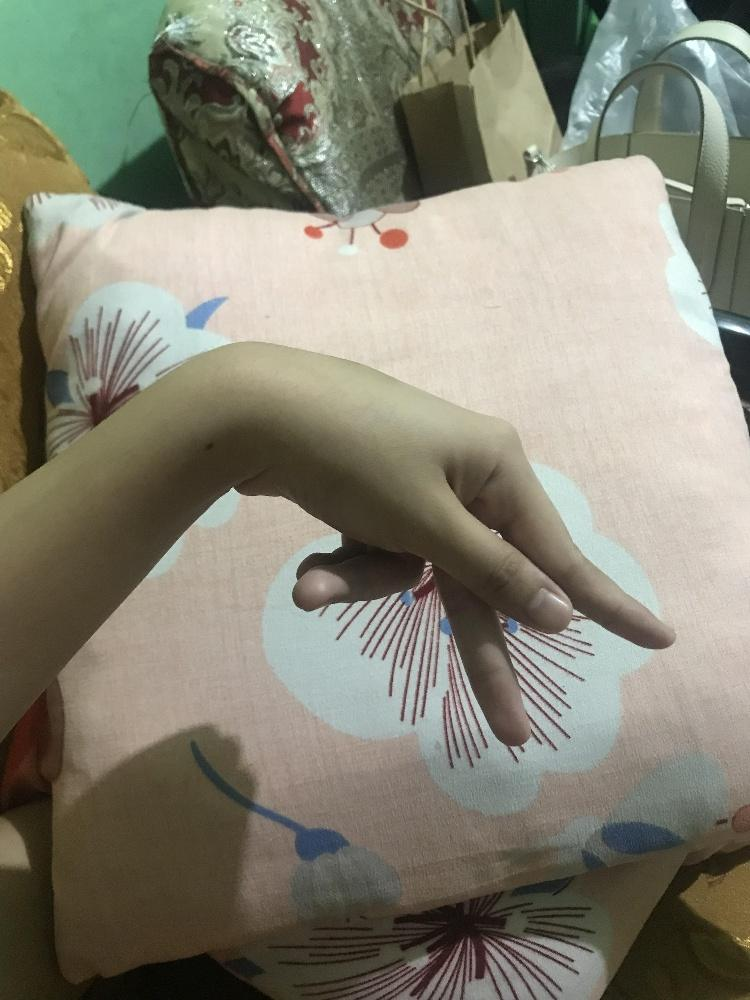p: (238, 339, 678, 751)
